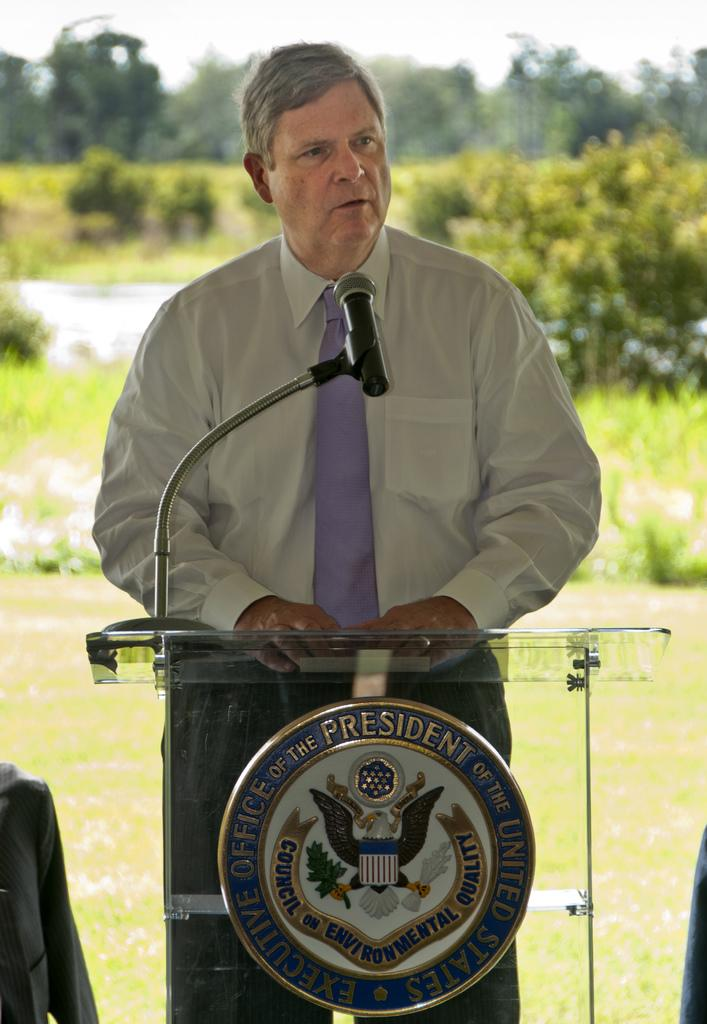no_helmet: (264, 32, 383, 176)
none: (163, 238, 536, 658)
